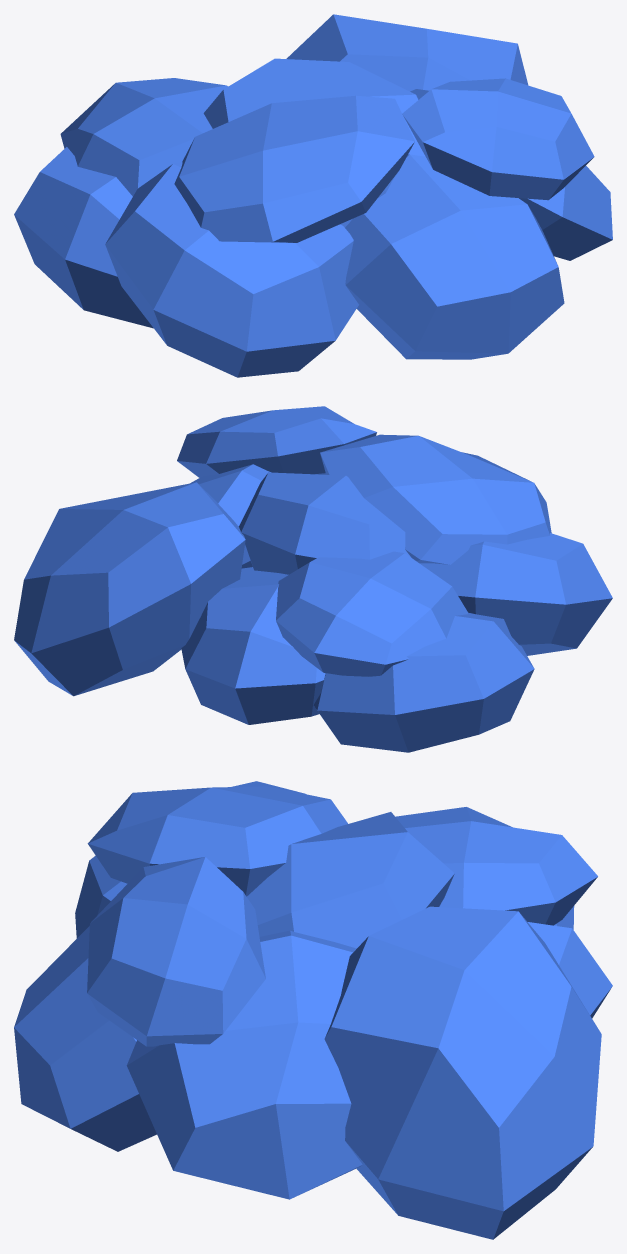
File: Bale_Variant2.fbx
3 views of the same model, one above another, from view 1: azimuth 30°, elevation 25°; view 2: azimuth 150°, elevation 25°; view 3: azimuth 270°, elevation 25° (orthographic). The views are drawn at different scales.
Visible parts, largest first — view 1: Bale_Variant2; view 2: Bale_Variant2; view 3: Bale_Variant2.
Part boxes in pixels (box(x1,y1,x2,y2)): Bale_Variant2: box(14, 14, 612, 377); Bale_Variant2: box(14, 406, 612, 752); Bale_Variant2: box(14, 781, 612, 1239).
Size of the model in its own units: 150 by 68.19 by 130.
